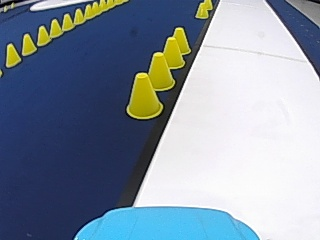cone: (125, 72, 162, 119), (145, 51, 175, 89), (160, 36, 185, 69), (170, 26, 191, 54), (4, 42, 21, 66), (21, 32, 36, 54), (36, 25, 50, 45), (48, 17, 62, 37), (60, 12, 73, 30), (194, 2, 208, 18), (73, 7, 84, 23), (83, 4, 93, 17), (201, 0, 211, 10), (91, 2, 98, 12)
